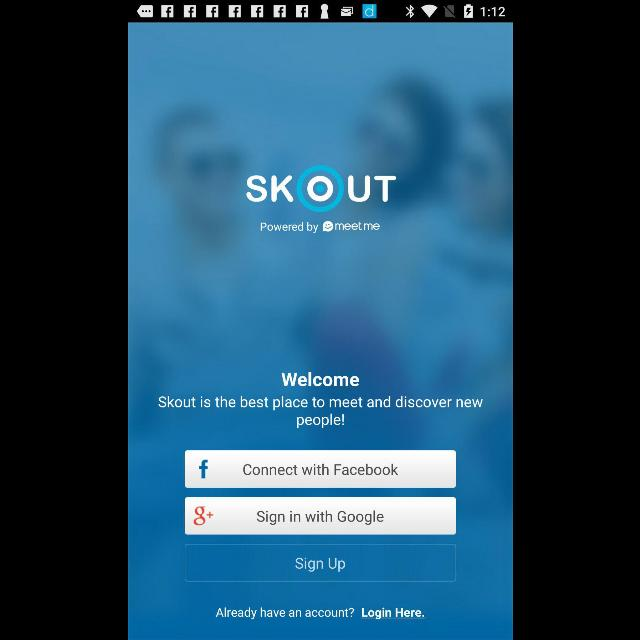image: (246, 166, 396, 234)
text: (158, 396, 482, 428), (214, 607, 423, 619), (281, 372, 359, 388)
textbutton: (184, 497, 456, 535), (184, 544, 456, 582), (183, 450, 454, 488)
uppertaskbar: (128, 1, 512, 23)
